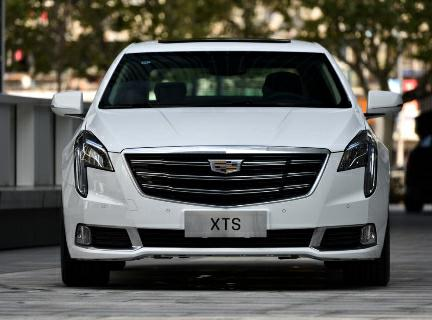凯迪拉克-XTS: (54, 34, 404, 287)
